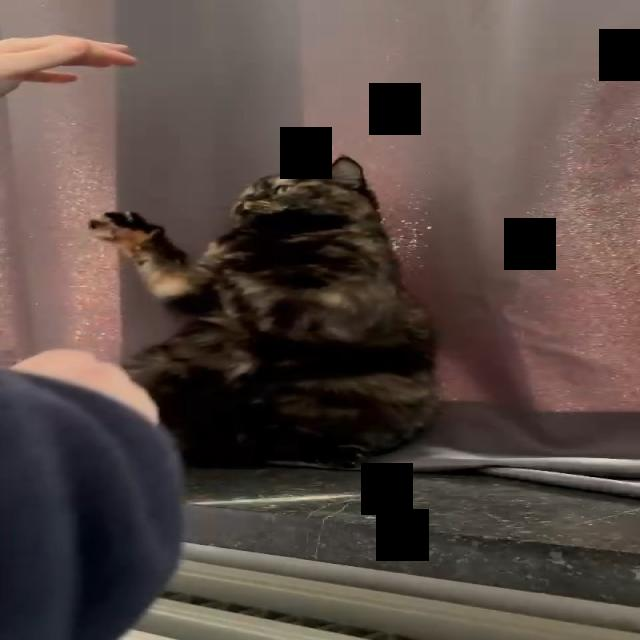authorized: (87, 154, 441, 469)
